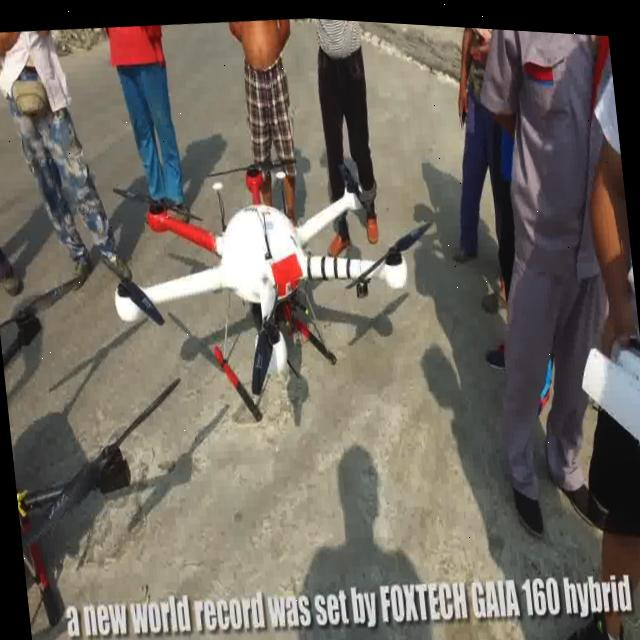drone: (92, 130, 424, 439)
